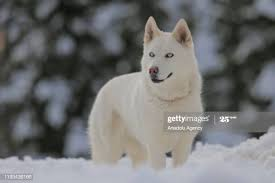Bulldog: (80, 22, 220, 166)
